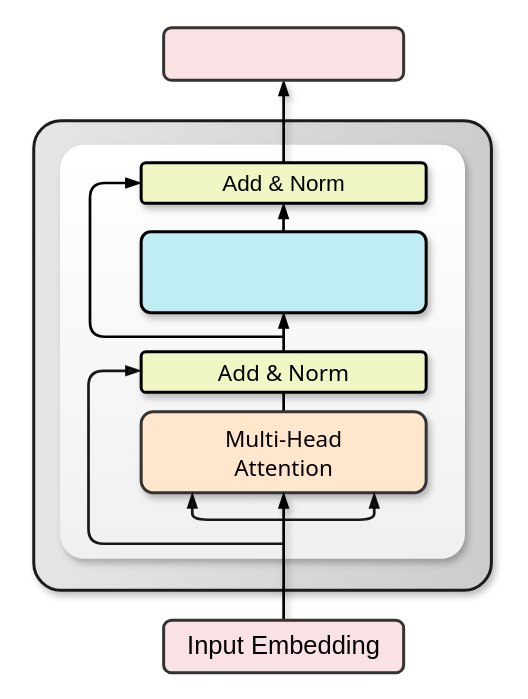
This 528x699 diagram has some shape labels left out. Each missing label, with the centre of its shape:
"Feed Forwarding" goes at [284,274].
"Hidden States" goes at [282,53].
